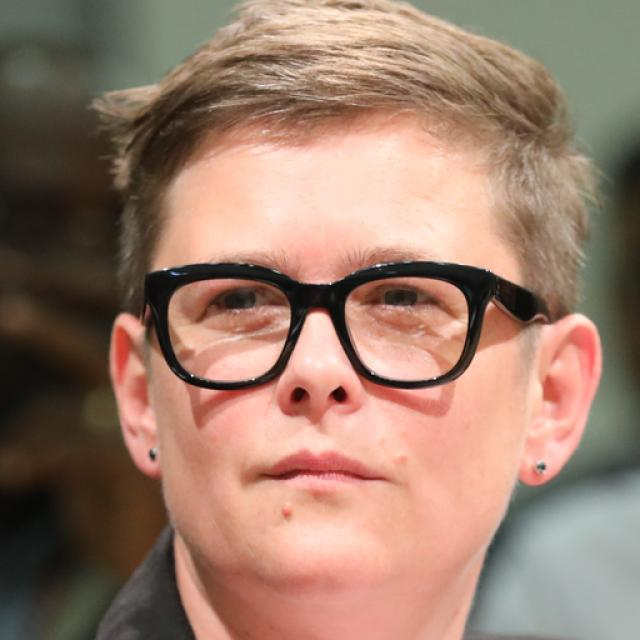Acne: (267, 497, 299, 527), (385, 442, 414, 470)
